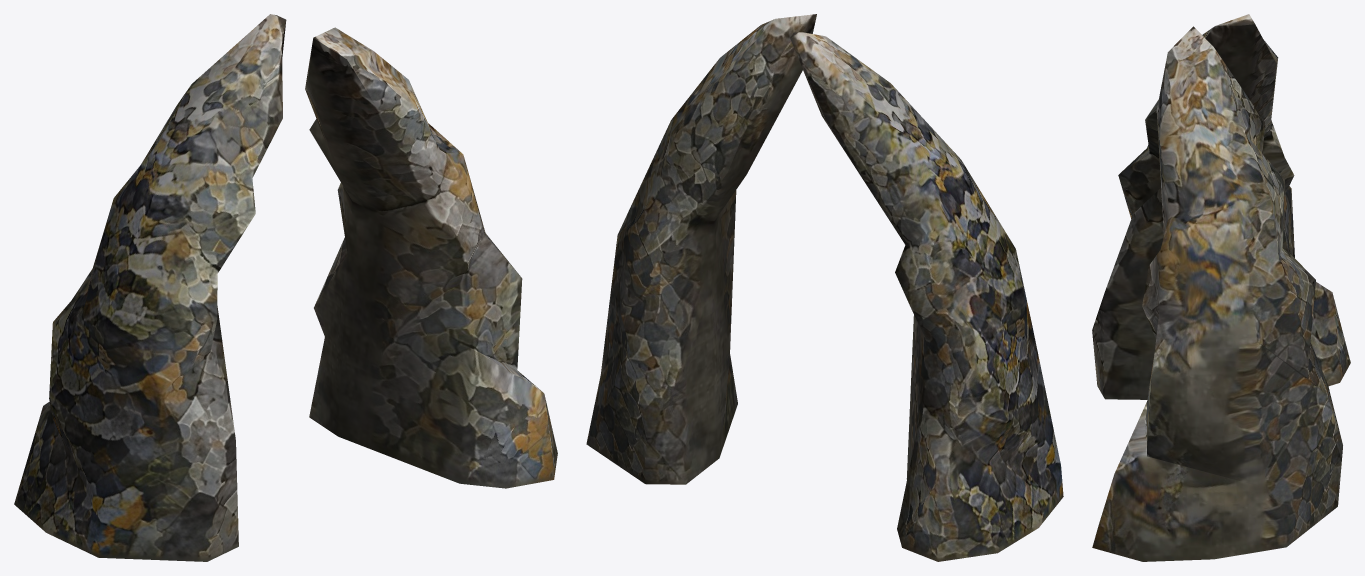
Rendered from act1_kit_v1_leaning_stones.glb.
The picture shows the model from 3 angles, left to right: view 1: azimuth 30°, elevation 25°; view 2: azimuth 150°, elevation 25°; view 3: azimuth 270°, elevation 25°; orthographic projection. The views are drawn at different scales.
Parts seen in each view (by area): view 1: A21_5_leaning_stones; view 2: A21_5_leaning_stones; view 3: A21_5_leaning_stones.
Part boxes in pixels (<box>): A21_5_leaning_stones: <box>14,14,557,561</box>; A21_5_leaning_stones: <box>586,14,1063,561</box>; A21_5_leaning_stones: <box>1092,14,1350,561</box>.
Bounding box in the file's own units: 1 × 0.9359 × 0.5003.
Materials: 1 (1 with a texture image).
